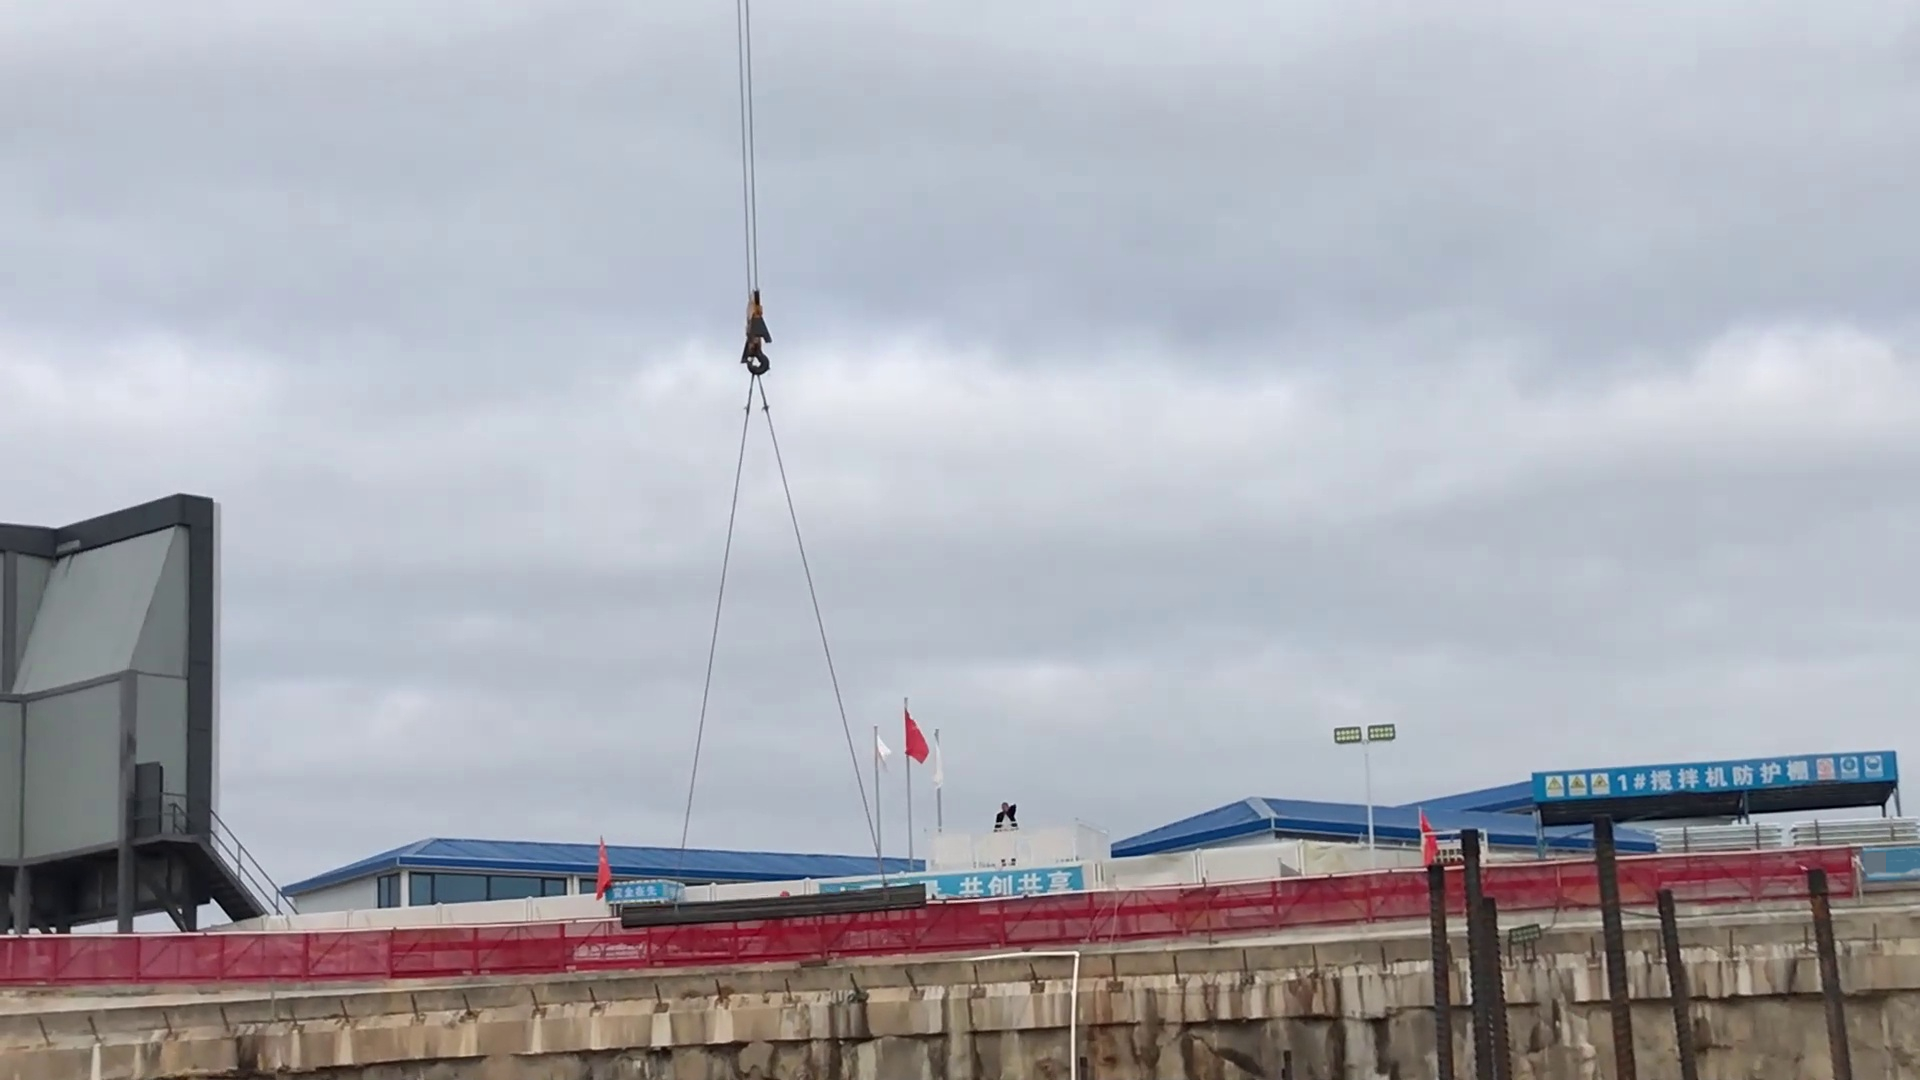fence: (1, 837, 1867, 1004)
hook: (736, 287, 774, 381)
rebar: (611, 876, 936, 952)
slogan: (955, 866, 1081, 902)
